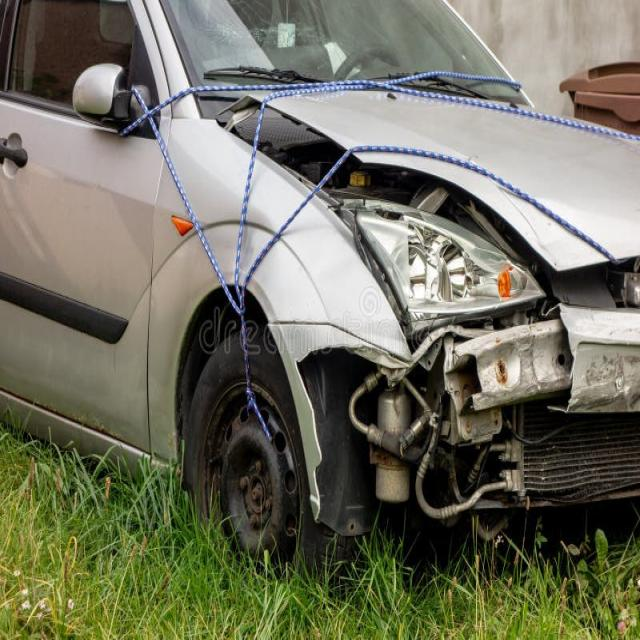crush: (213, 90, 640, 534)
